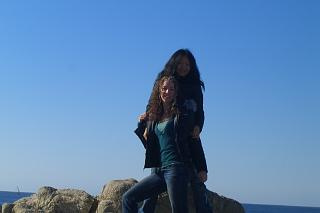without_mask: (157, 80, 177, 104), (174, 53, 191, 76)
